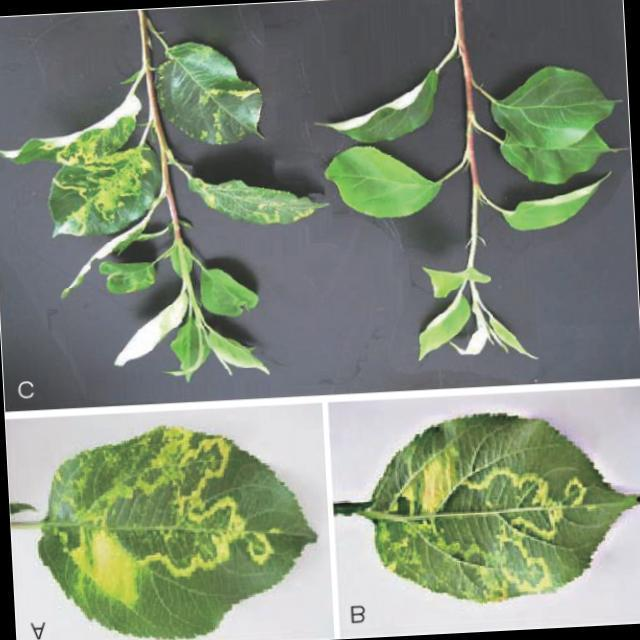Mosaic Virus: (27, 428, 304, 636), (361, 427, 613, 618), (39, 150, 163, 248), (161, 42, 273, 148), (0, 96, 135, 169), (194, 170, 301, 234)
